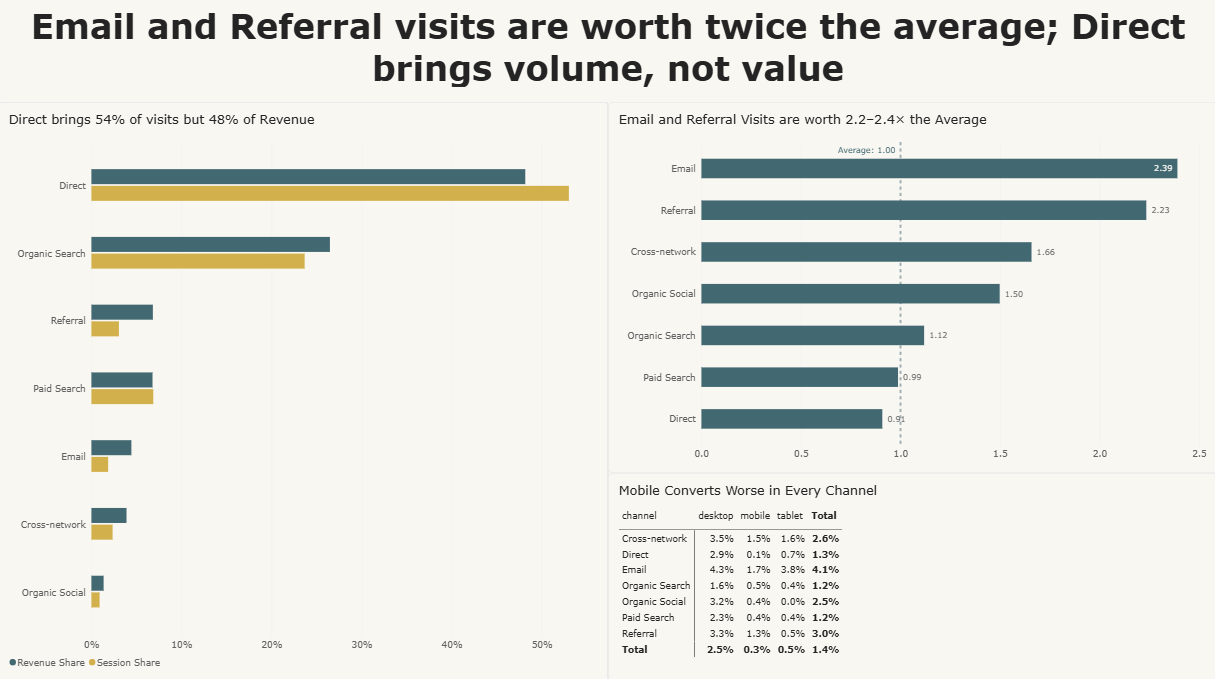

The page's visual inventory and layout, read from the dashboard file:
{"tool":"powerbi","page":{"name":"Acquisition","canvas":[1920,1080],"ordinal":1},"visuals":[{"type":"textbox","title":"Email and Referral visits are worth twice the average; Direct brings volume, not value","box":[0,13.9,1920,129.1],"z":0},{"type":"clusteredBarChart","title":"Direct brings 54% of visits but 48% of Revenue","fields":{"Category":["public traffic.channel"],"Y":["public traffic.Revenue Share","public traffic.Session Share"]},"box":[0,166.6,960.7,913.5],"z":1},{"type":"barChart","title":"Email and Referral Visits are worth 2.2–2.4× the Average","fields":{"Category":["public traffic.channel"],"Y":["public traffic.Value Index"]},"box":[960.7,166.6,959.3,584.5],"z":2},{"type":"pivotTable","title":"Mobile Converts Worse in Every Channel","fields":{"Columns":["public traffic.device"],"Rows":["public traffic.channel"],"Values":["public traffic.Conversion Rate"]},"box":[960.7,751.1,959.3,327.6],"z":3}]}

Visuals, with their boxes in screenshot pixels (x1, y1, x2, y2), scaled from the page's 1920x1080 canvas onto the 1215x679 screenshot:
"Email and Referral visits are worth twice the average; Direct brings volume, not value" textbox: [left=0, top=9, right=1214, bottom=90]
"Direct brings 54% of visits but 48% of Revenue" clusteredBarChart: [left=0, top=105, right=608, bottom=678]
"Email and Referral Visits are worth 2.2–2.4× the Average" barChart: [left=608, top=105, right=1214, bottom=472]
"Mobile Converts Worse in Every Channel" pivotTable: [left=608, top=472, right=1214, bottom=678]
